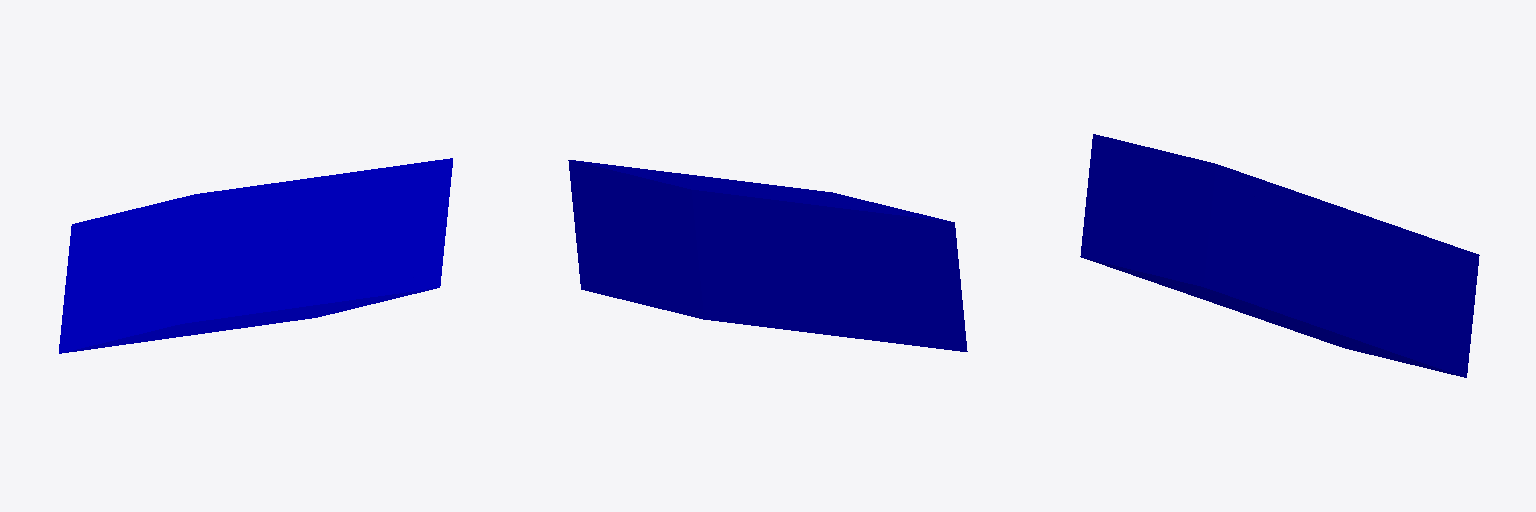
The model's file is planes_1-dynamic - BLK2GO-3630355-Scan 080 34.obj.
3 renders of one model, left to right at view 1: azimuth 30°, elevation 25°; view 2: azimuth 150°, elevation 25°; view 3: azimuth 330°, elevation 25°, orthographic.
Parts seen in each view (by area): view 1: 1-dynamic_-_BLK2GO-[number redacted]-Scan_080_34_0; view 2: 1-dynamic_-_BLK2GO-[number redacted]-Scan_080_34_0; view 3: 1-dynamic_-_BLK2GO-[number redacted]-Scan_080_34_0.
Part boxes in pixels (x1,y1,x2,y2): 1-dynamic_-_BLK2GO-[number redacted]-Scan_080_34_0: (59, 158, 452, 353); 1-dynamic_-_BLK2GO-[number redacted]-Scan_080_34_0: (568, 160, 967, 351); 1-dynamic_-_BLK2GO-[number redacted]-Scan_080_34_0: (1080, 134, 1479, 377).
Bounding box in the file's own units: 3.25 × 1.22 × 0.0375.